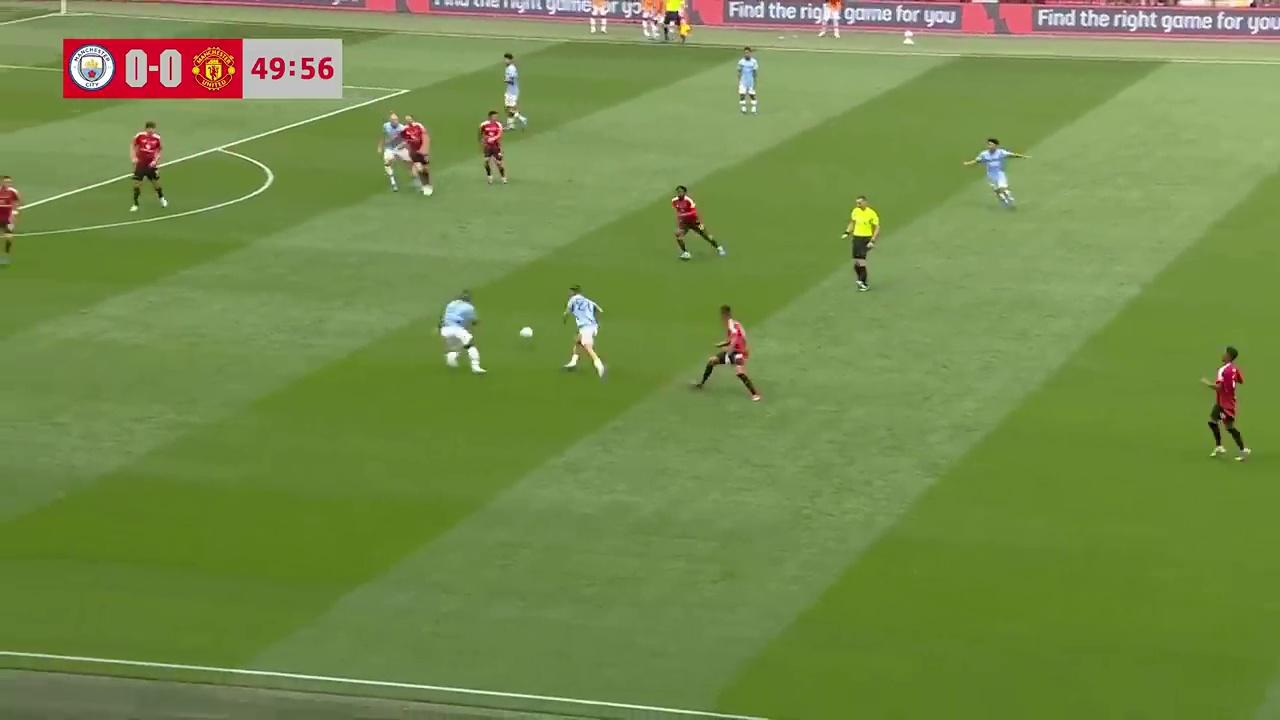ball: (517, 322, 535, 340)
player: (691, 305, 763, 401), (1202, 345, 1251, 463), (560, 284, 607, 380), (964, 138, 1025, 208), (437, 290, 486, 374), (671, 184, 723, 260), (129, 125, 167, 211), (403, 116, 434, 202), (478, 109, 507, 184), (380, 112, 405, 195), (0, 174, 23, 264), (502, 52, 527, 130), (736, 46, 759, 114)
referee: (842, 197, 879, 291), (663, 0, 691, 45)
